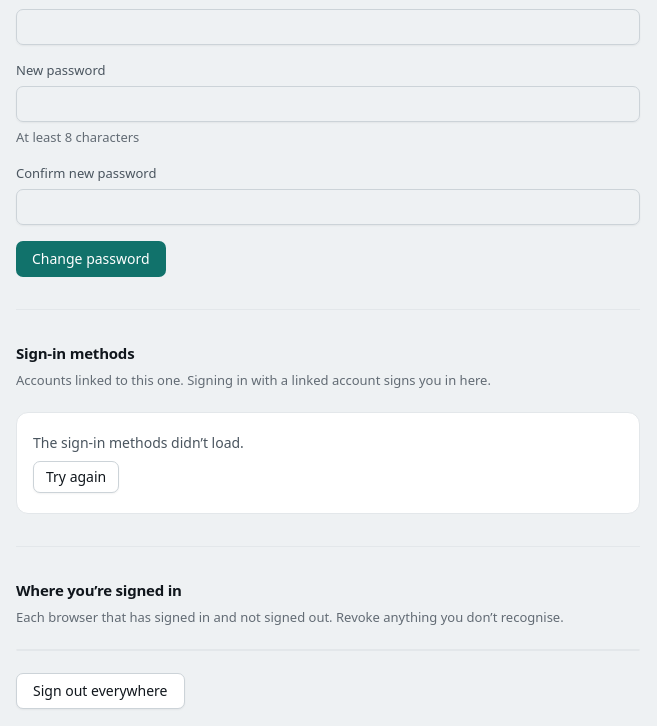
when the list does not load › says so, and Try again asks for it again
This screenshot has width=657, height=726.
(page scrolled)
Expected: the text "The sign-in methods didn’t load." is shown, [33, 433, 244, 453]
What coordinates should you click on to do the following:
click the button "Try again"
I would click on:
 (76, 477)
Its box is [33, 461, 119, 493].
(page scrolled)
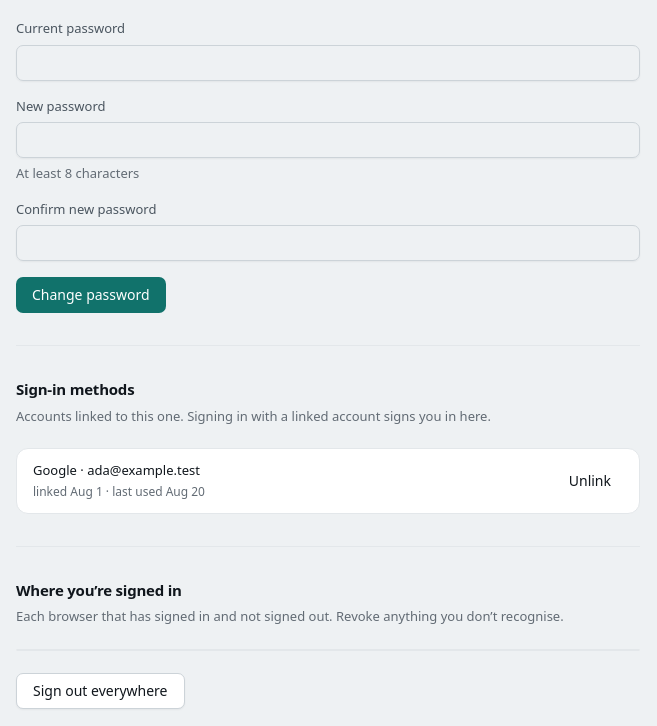
Expected: the text "Google · ada@example.test" is shown, [33, 461, 200, 479]
